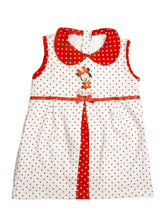clothoes: (12, 24, 159, 203)
